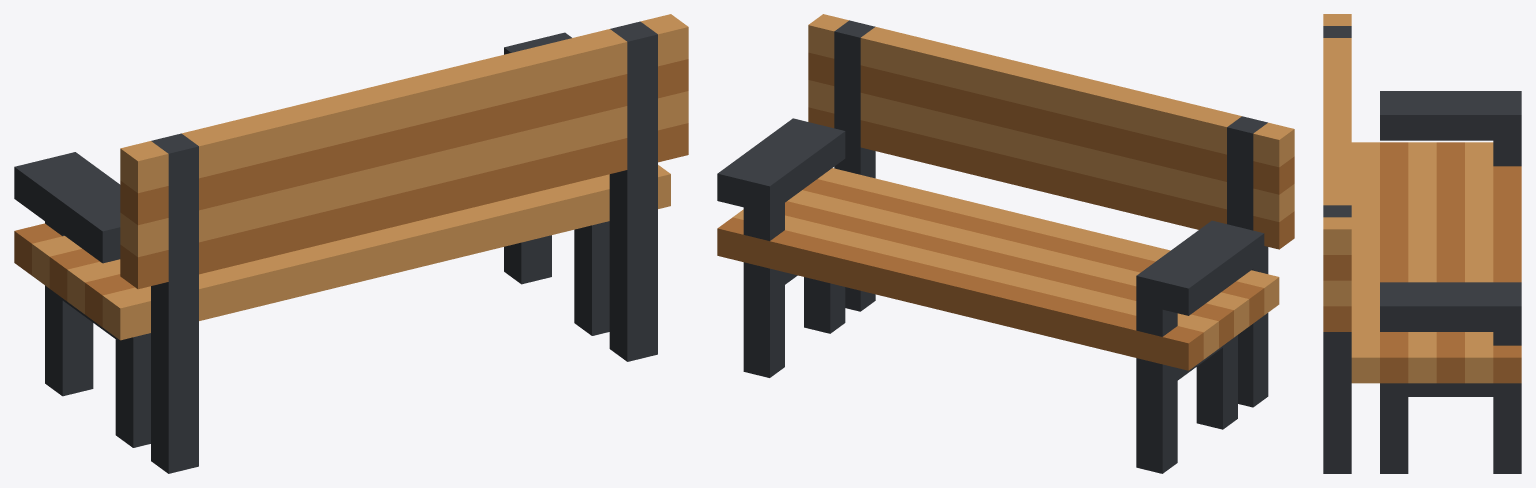
File: bench.glb
3 views of the same model, side by side, from view 1: azimuth 30°, elevation 25°; view 2: azimuth 150°, elevation 25°; view 3: azimuth 270°, elevation 25° (orthographic). The views are drawn at different scales.
Parts seen in each view (by area): view 1: seat; view 2: seat; view 3: seat.
Part boxes in pixels (left/top/right/bottom): seat: left=14, top=14, right=688, bottom=473; seat: left=717, top=14, right=1294, bottom=473; seat: left=1323, top=14, right=1521, bottom=473.
Size of the model in its own units: 1.8 by 1 by 0.7.
